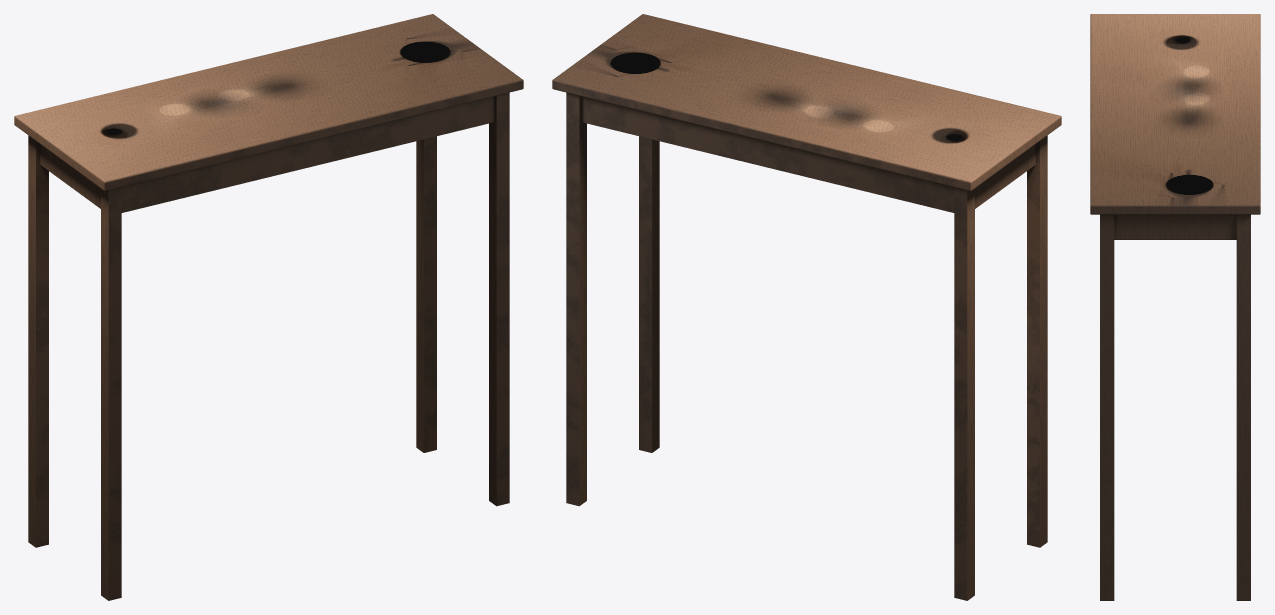
File: 812_cacmp.glb
The picture shows the model from 3 angles, left to right: view 1: azimuth 30°, elevation 25°; view 2: azimuth 150°, elevation 25°; view 3: azimuth 270°, elevation 25°; orthographic projection. The views are drawn at different scales.
Visible parts, largest first — view 1: Table; view 2: Table; view 3: Table.
Part boxes in pixels (x1,y1,x2,y2): Table: [14, 14, 523, 600]; Table: [552, 14, 1061, 600]; Table: [1090, 14, 1260, 600].
Size of what is drawn, in the model's own units: 3.2 by 3.1 by 1.2.
1 material, 1 textured.
